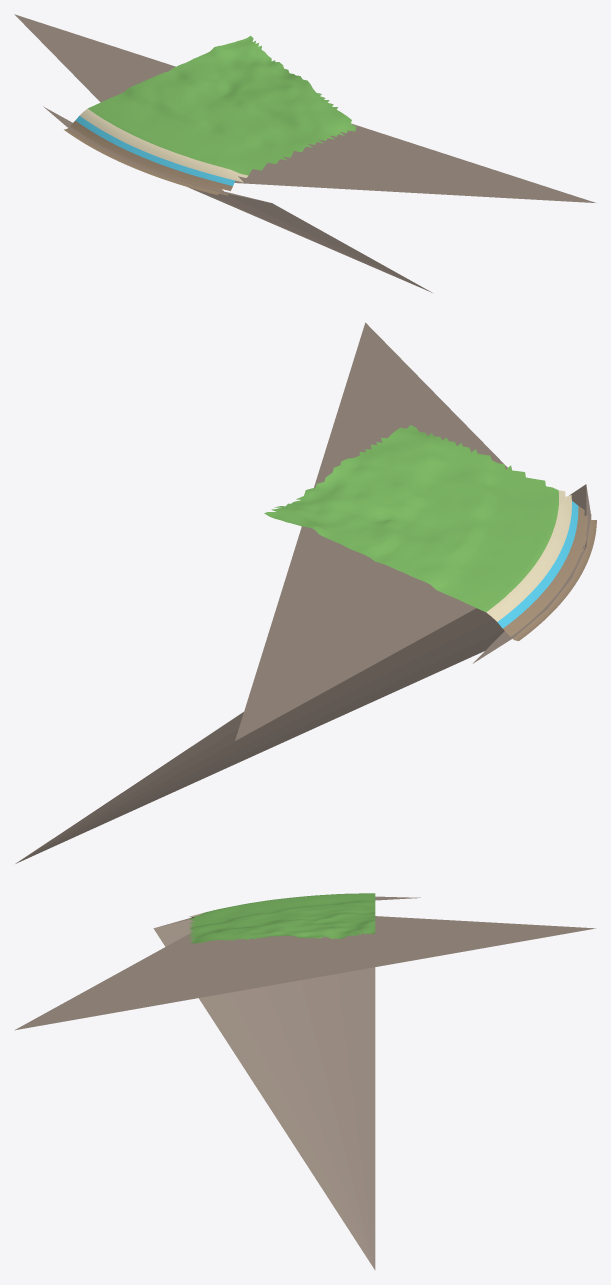
Rendered from flagship_terrain_20.glb.
3 renders of one model, top to bottom at view 1: azimuth 30°, elevation 25°; view 2: azimuth 150°, elevation 25°; view 3: azimuth 270°, elevation 25°, orthographic. The views are drawn at different scales.
Visible parts, largest first — view 1: Terrain_20; view 2: Terrain_20; view 3: Terrain_20.
Part boxes in pixels (x1,y1,x2,y2): Terrain_20: (14,14,595,293); Terrain_20: (15,322,596,863); Terrain_20: (14,893,595,1270).
Bounding box in the file's own units: 121 × 94.59 × 192.
